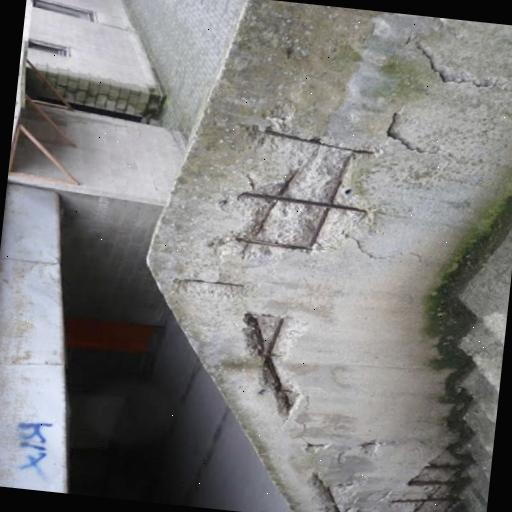spalling: (216, 125, 374, 254), (235, 300, 312, 425), (379, 438, 466, 512), (303, 465, 345, 512)
